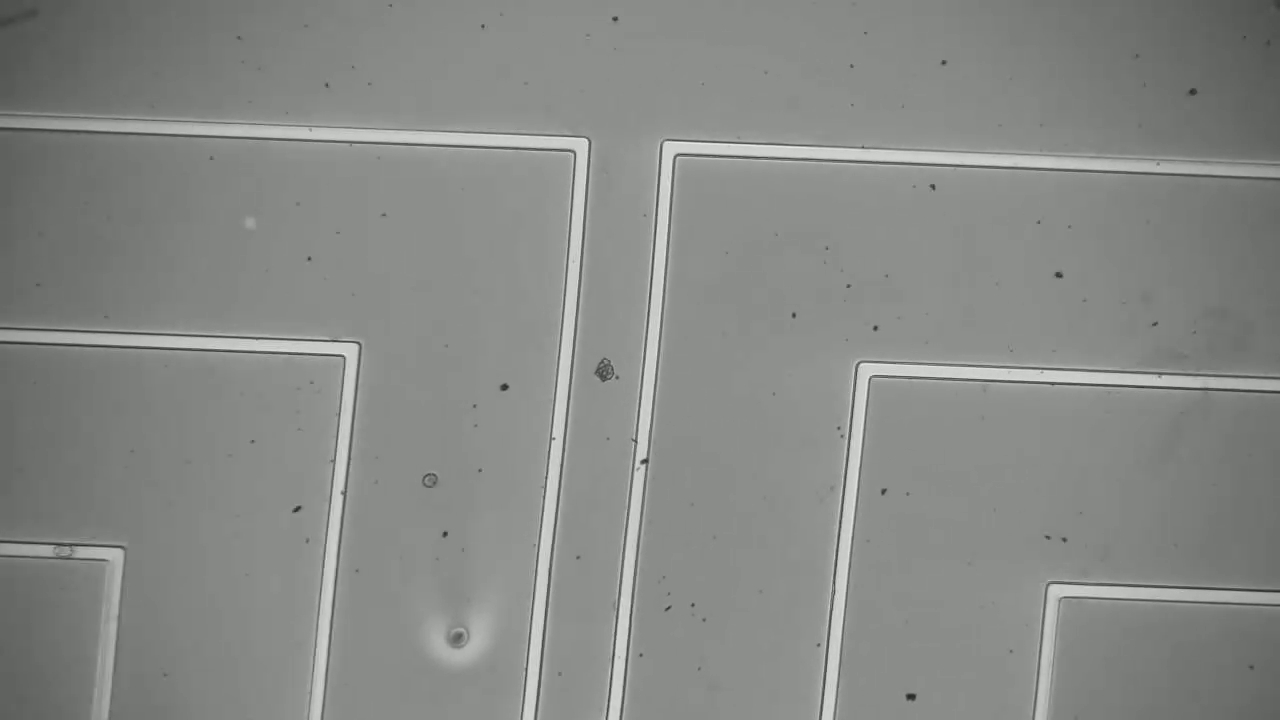stains_enbedded: (43, 529, 87, 571), (630, 452, 652, 469)
